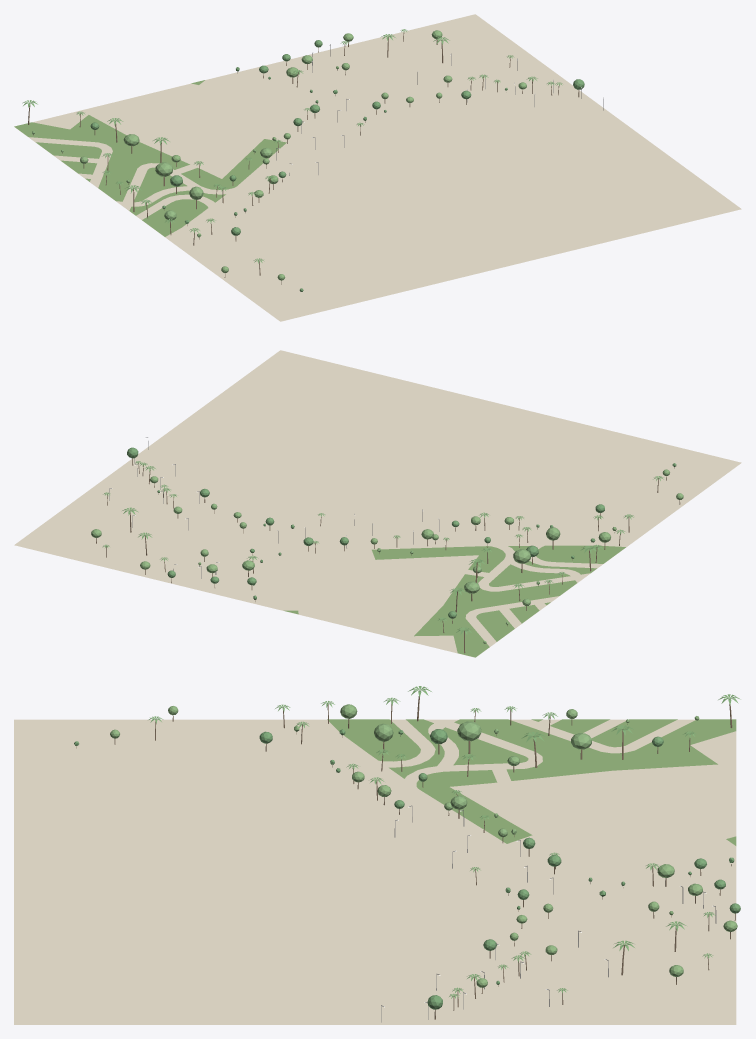
Rendered from nature_-4_4.glb.
3 renders of one model, top to bottom at view 1: azimuth 30°, elevation 25°; view 2: azimuth 150°, elevation 25°; view 3: azimuth 270°, elevation 25°, orthographic. The views are drawn at different scales.
Parts seen in each view (by area): view 1: ground, grass, foliage_b, palm_leaf, foliage_a, trunk; view 2: ground, grass, foliage_b, palm_leaf, foliage_a, trunk; view 3: ground, grass, foliage_b, palm_leaf, foliage_a, trunk.
Boxes of the visible parts, box(x1,y1,x2,y2) form: ground: box(15, 14, 741, 321); grass: box(14, 80, 286, 236); foliage_b: box(32, 30, 526, 280); palm_leaf: box(22, 29, 562, 263); foliage_a: box(90, 40, 584, 291); trunk: box(28, 33, 579, 284); ground: box(14, 350, 741, 657); grass: box(284, 545, 625, 657); foliage_b: box(91, 469, 683, 643); palm_leaf: box(102, 461, 663, 634); foliage_a: box(127, 447, 676, 618); trunk: box(96, 458, 680, 653); ground: box(14, 719, 736, 1024); grass: box(327, 719, 736, 845); foliage_b: box(110, 704, 737, 987); palm_leaf: box(148, 686, 740, 998); foliage_a: box(74, 729, 740, 1009); trunk: box(76, 696, 735, 1019).
Bounding box in the file's own units: 253 × 12.61 × 252.
